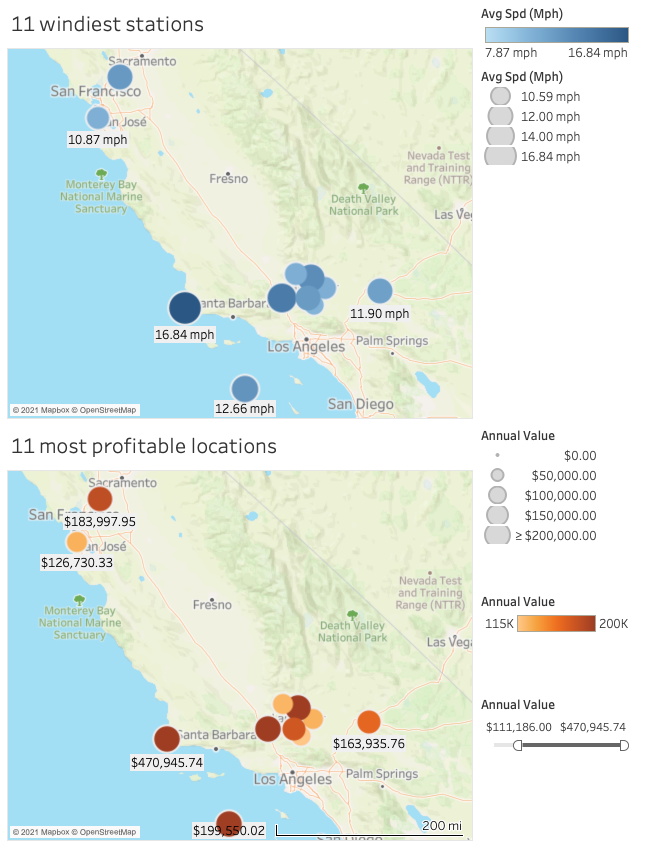

Layout of this report page (visuals, bound fields, positions):
{"tool":"tableau","page":{"name":"Wind vs. Profit","canvas":[650,860],"ordinal":1},"visuals":[{"type":"worksheet","title":"11 windiest stations","mark":"Automatic","rows":["latitude"],"cols":["longitude"],"box":[8,8,474,422]},{"type":"legend","title":"11 windiest stations","param":"[federated.0d5cord0ae5pdx11siwb11orag4q].[sum:avg_spd (mph):qk]","box":[482,8,160,63]},{"type":"legend","title":"11 windiest stations","param":"[federated.0d5cord0ae5pdx11siwb11orag4q].[sum:avg_spd (mph):qk]","box":[482,71,160,106]},{"type":"worksheet","title":"11 most profitable locations","mark":"Automatic","rows":["latitude"],"cols":["longitude"],"box":[8,430,474,422]},{"type":"legend","title":"11 most profitable locations","param":"[federated.0d5cord0ae5pdx11siwb11orag4q].[sum:annual_value:qk]","box":[482,518.3,160,54.7]},{"type":"legend","title":"11 most profitable locations","param":"[federated.0d5cord0ae5pdx11siwb11orag4q].[sum:annual_value:qk]","box":[482,573,160,146]},{"type":"filter","title":"11 most profitable locations","param":"[federated.0d5cord0ae5pdx11siwb11orag4q].[sum:annual_value:qk]","box":[482,719,160,133]}]}

Visuals, with their boxes in screenshot pixels (x1, y1, x2, y2), scaled from the page's 650x860 canvas onto the 645x850 screenshot:
"11 windiest stations" worksheet: [8, 8, 478, 425]
"11 windiest stations" legend: [478, 8, 637, 70]
"11 windiest stations" legend: [478, 70, 637, 175]
"11 most profitable locations" worksheet: [8, 425, 478, 842]
"11 most profitable locations" legend: [478, 512, 637, 566]
"11 most profitable locations" legend: [478, 566, 637, 711]
"11 most profitable locations" filter: [478, 711, 637, 842]
